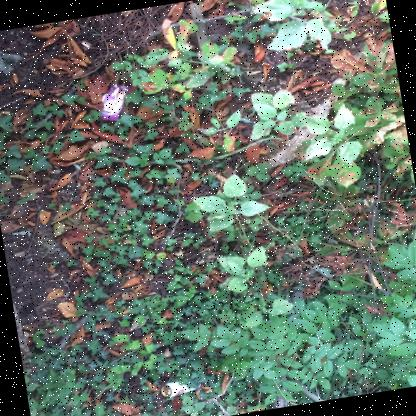Drink can: (160, 381, 201, 397)
Other plastic: (99, 83, 131, 120)
